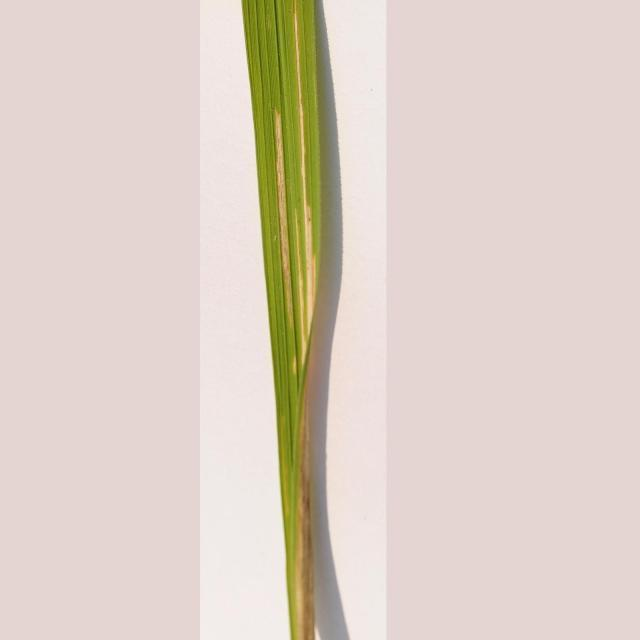Bacterial_Leaf_Blight: (239, 109, 353, 572)
